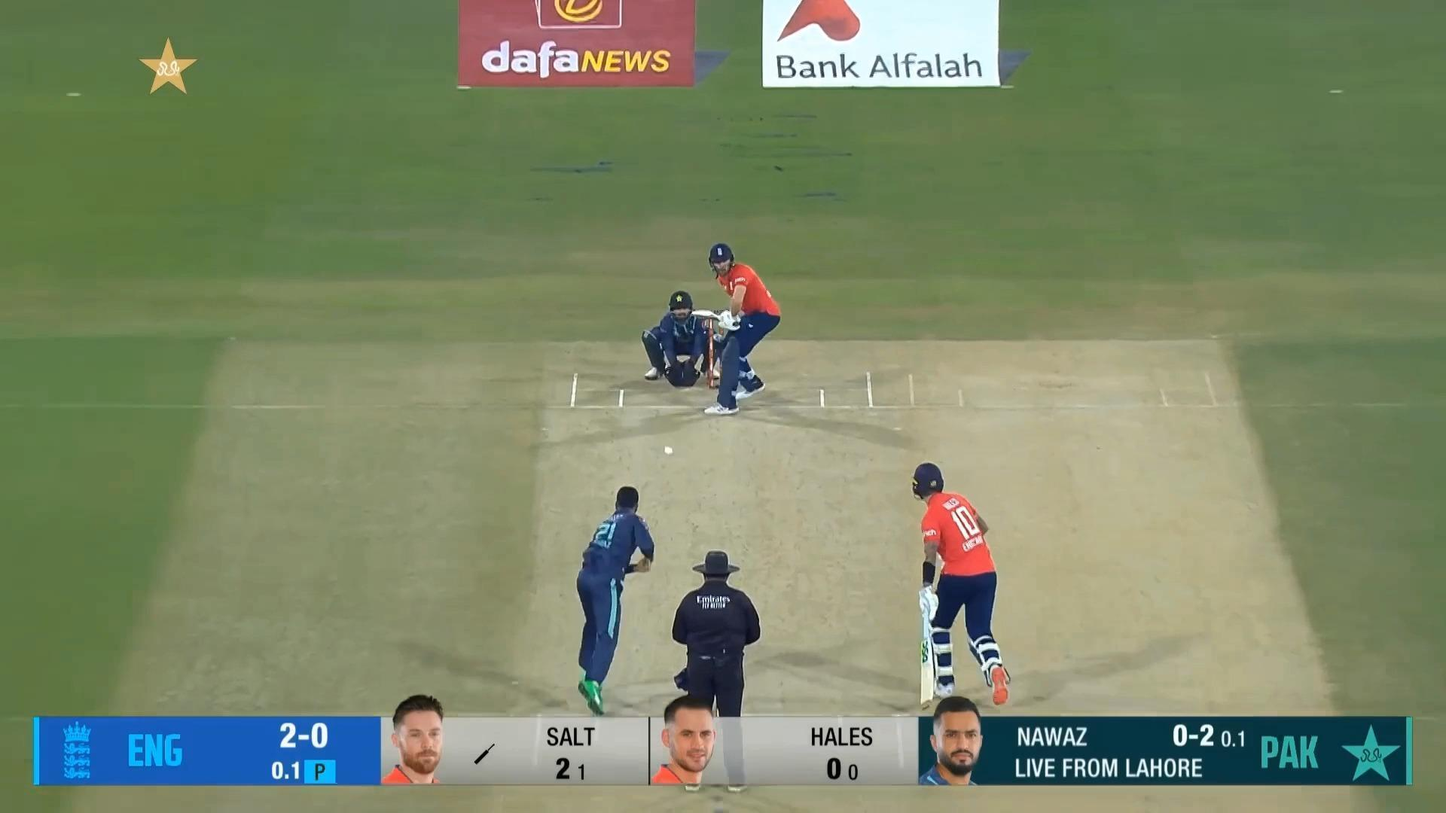BM 1: (691, 243, 781, 416)
BO: (574, 482, 657, 715)
